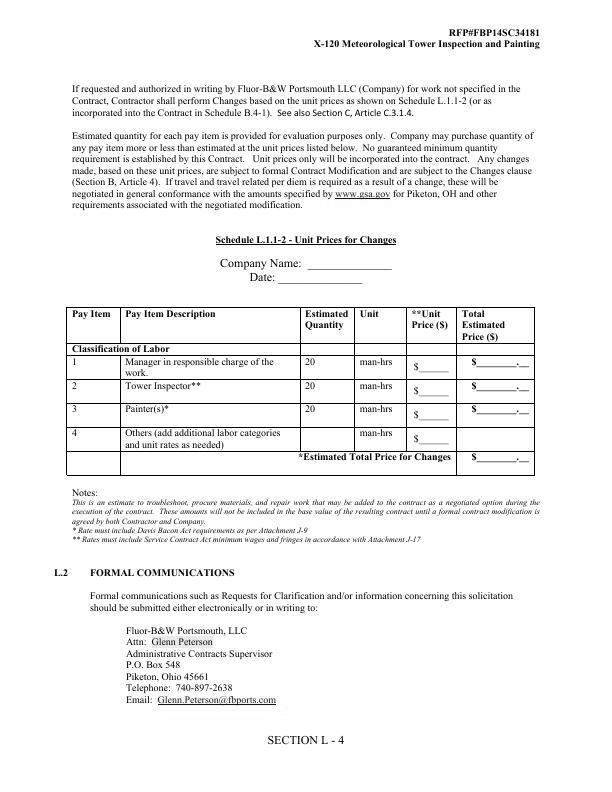input: (304, 253, 395, 274), (274, 270, 363, 289)
table: (63, 302, 540, 479)
text: (67, 129, 547, 212), (70, 487, 547, 548), (50, 566, 518, 616), (67, 80, 529, 121), (122, 624, 284, 709), (311, 26, 549, 57), (209, 232, 401, 249), (218, 254, 300, 270), (245, 271, 276, 286)
